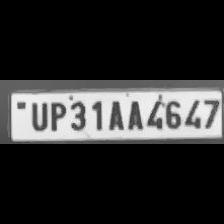1: (87, 98, 105, 132)
3: (66, 98, 88, 132)
4: (143, 96, 163, 130), (182, 97, 202, 129), (190, 97, 210, 128)
6: (163, 97, 181, 129)
7: (200, 97, 218, 129)
A: (106, 97, 126, 131), (124, 97, 142, 130)
P: (47, 99, 67, 131)
U: (28, 99, 48, 131)
